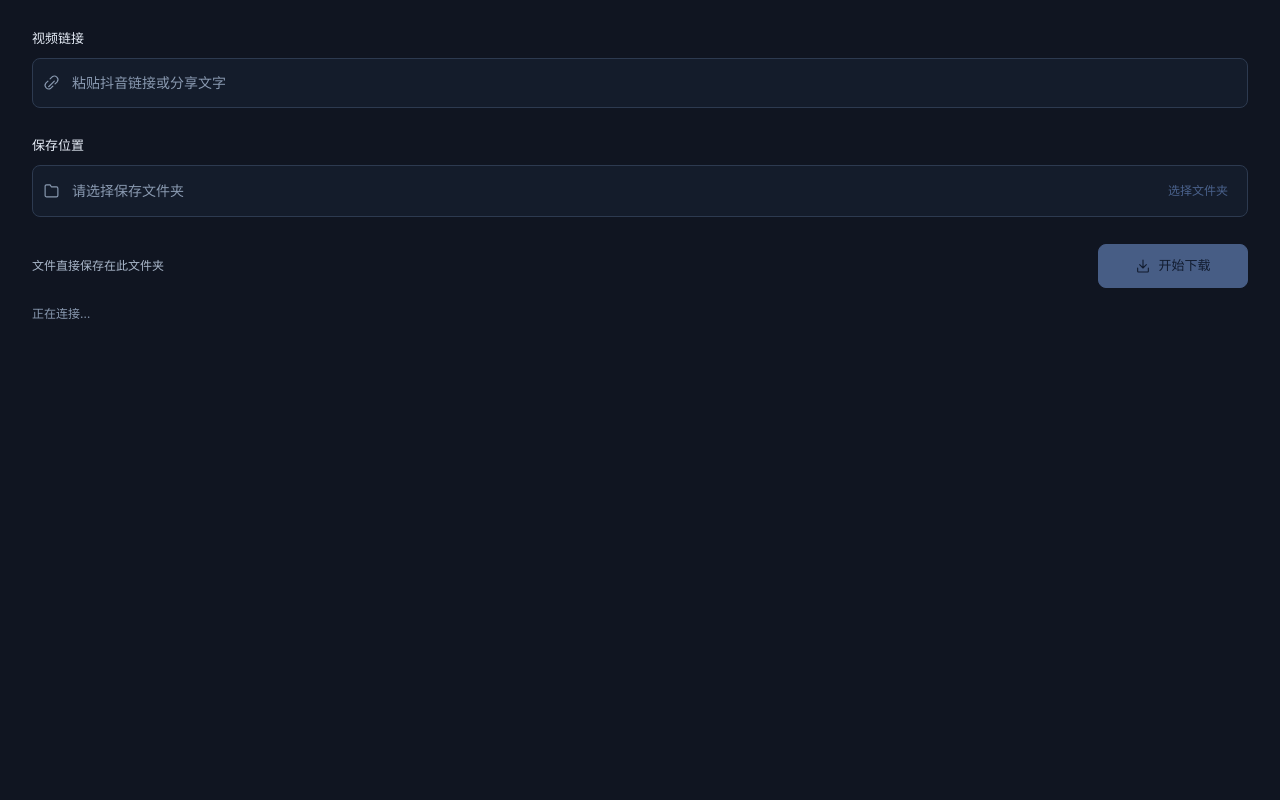
keeps a new-task draft open when retained retry information expires
Expected: the button "开始下载" is shown, x1=1098 y1=244 x2=1248 y2=288
Type "https://www.douyin.com/jingxuan?modal_id=7684438409082866998" into the field labelled "视频链接" at (654, 83), box x1=70 y1=68 x2=1237 y2=98
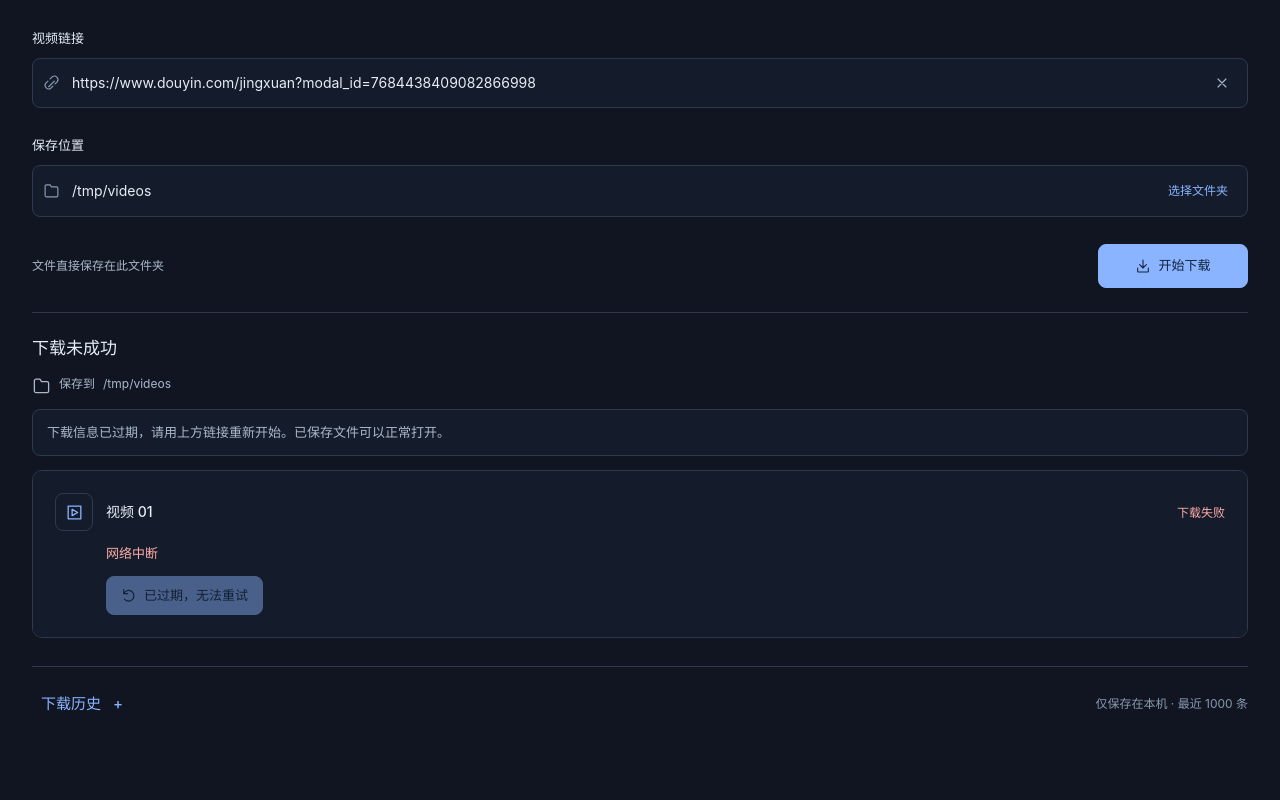
Expected: the button "开始下载" is enabled, x1=1098 y1=244 x2=1248 y2=288
